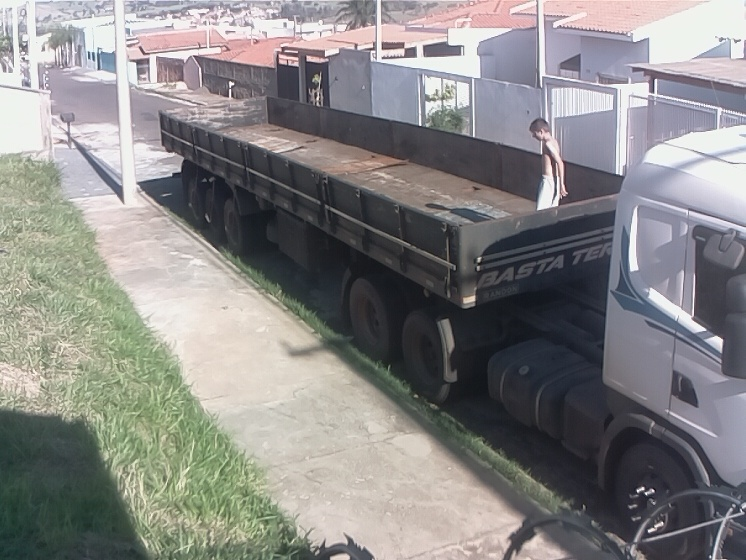person: (528, 116, 571, 212)
